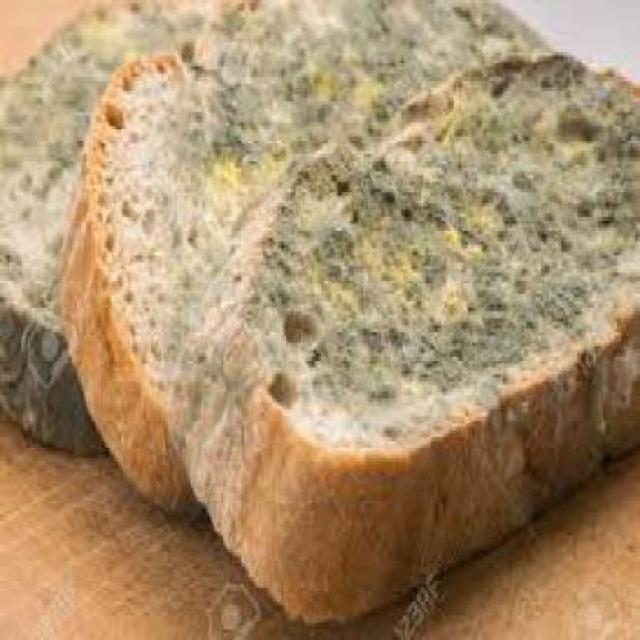BIODEGRADABLE: (60, 0, 638, 620), (0, 0, 234, 452)
